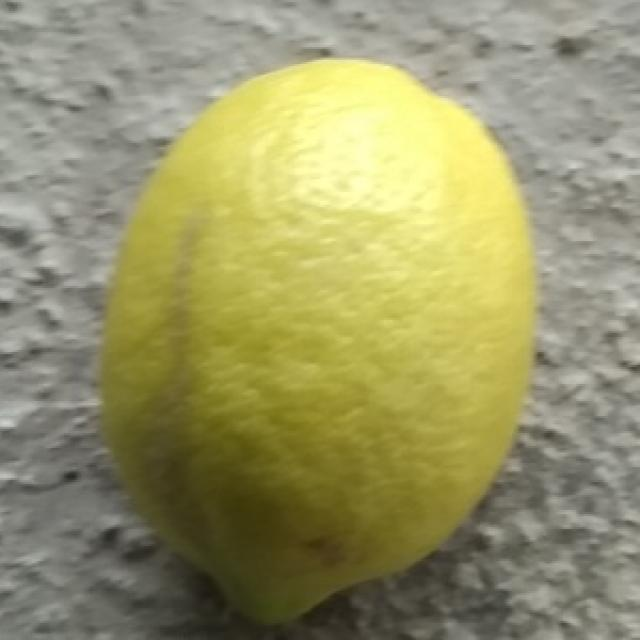Ripe: (100, 57, 544, 622)
